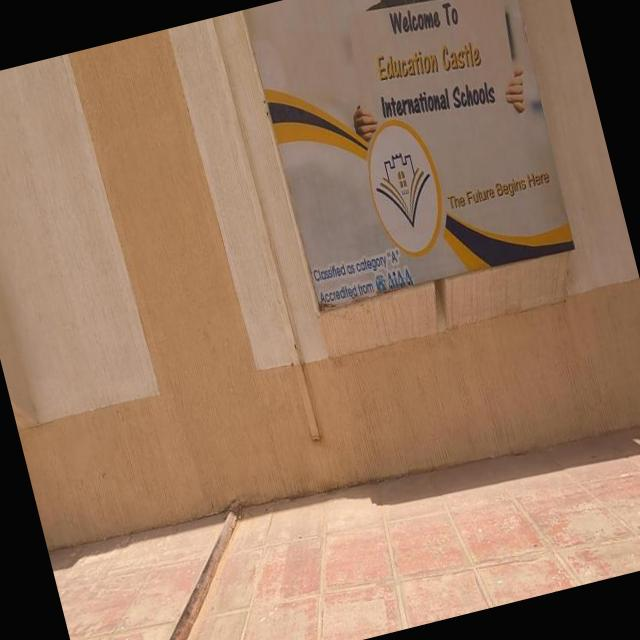debris: (83, 0, 640, 523)
